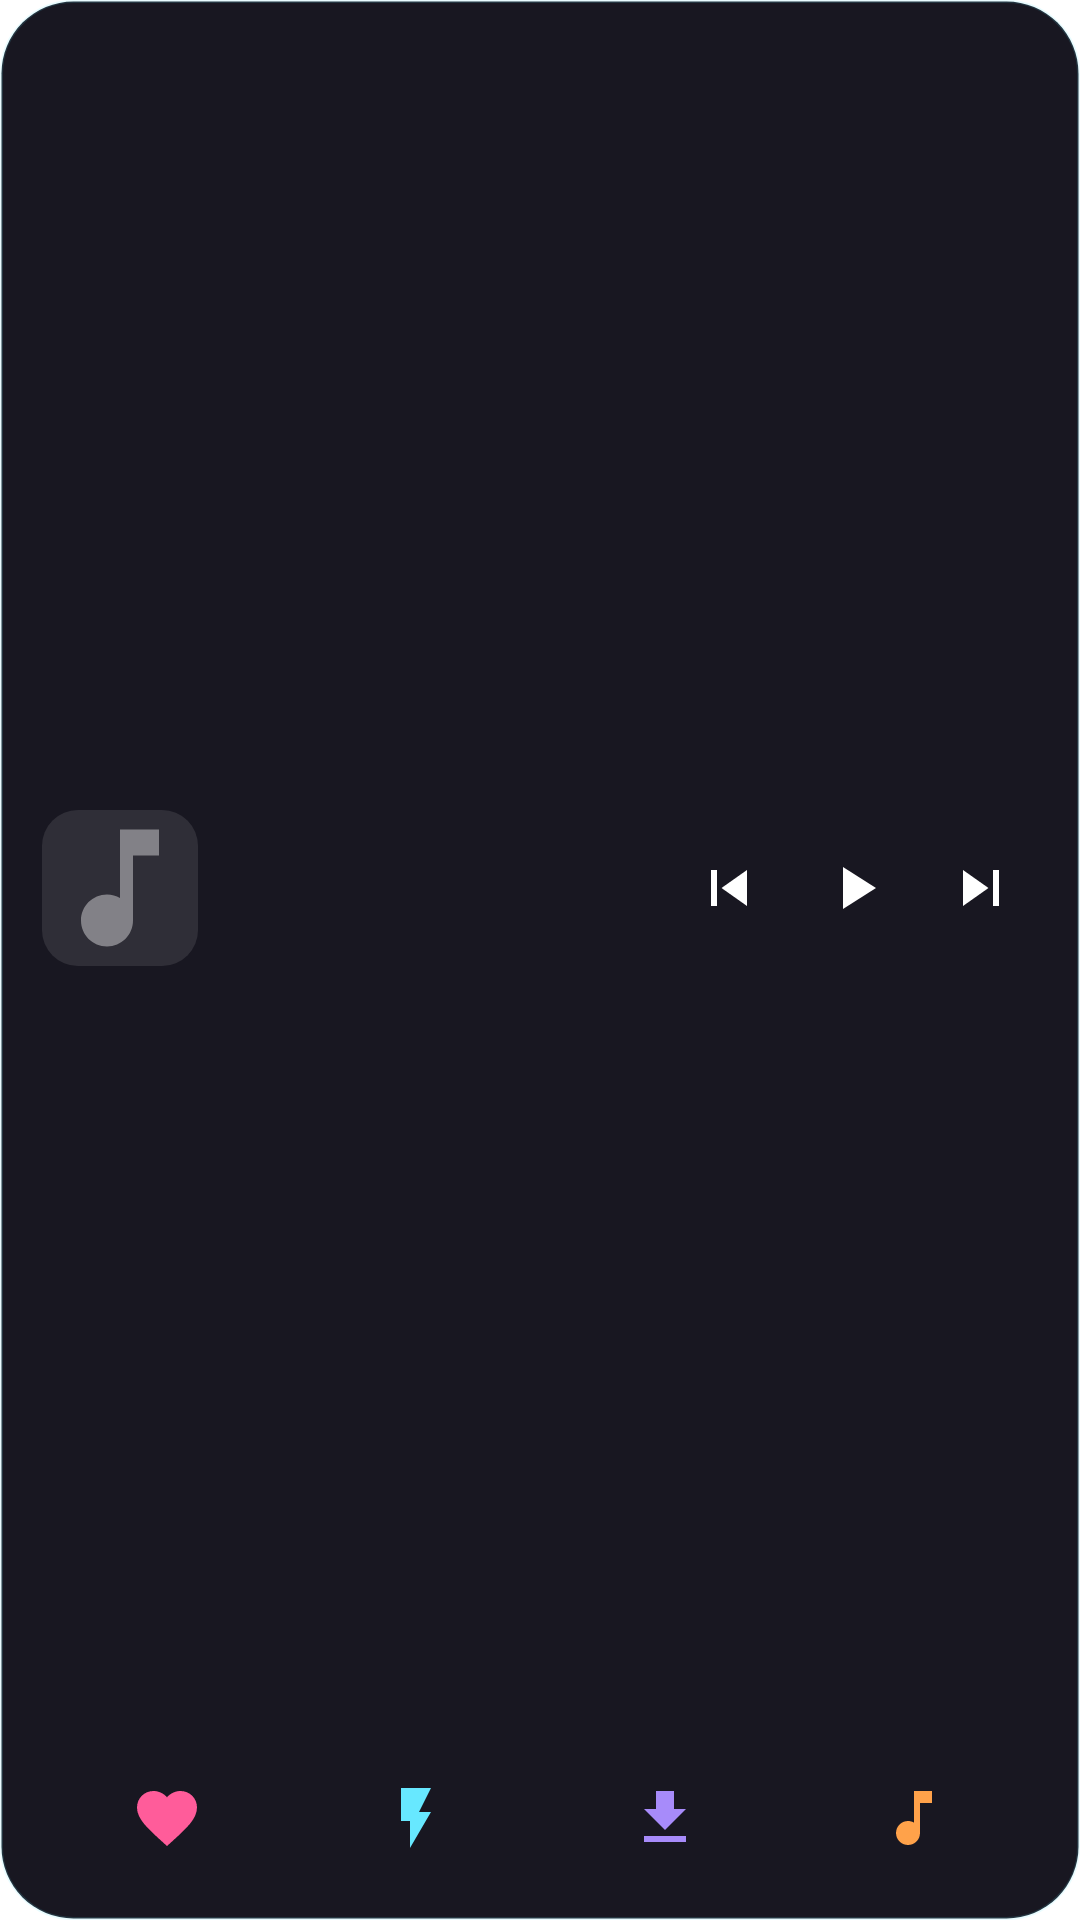

Named icons in this screenshot (1080x1920) and their bounding boxes, (x1=x1, y1=y1, x2=x2, y2=y2):
Favorites: (x1=137, y1=1791, x2=197, y2=1846)
Next: (x1=963, y1=870, x2=999, y2=906)
Offline mix: (x1=644, y1=1791, x2=686, y2=1842)
Play/Pause: (x1=843, y1=867, x2=876, y2=909)
Previous: (x1=711, y1=870, x2=747, y2=906)
